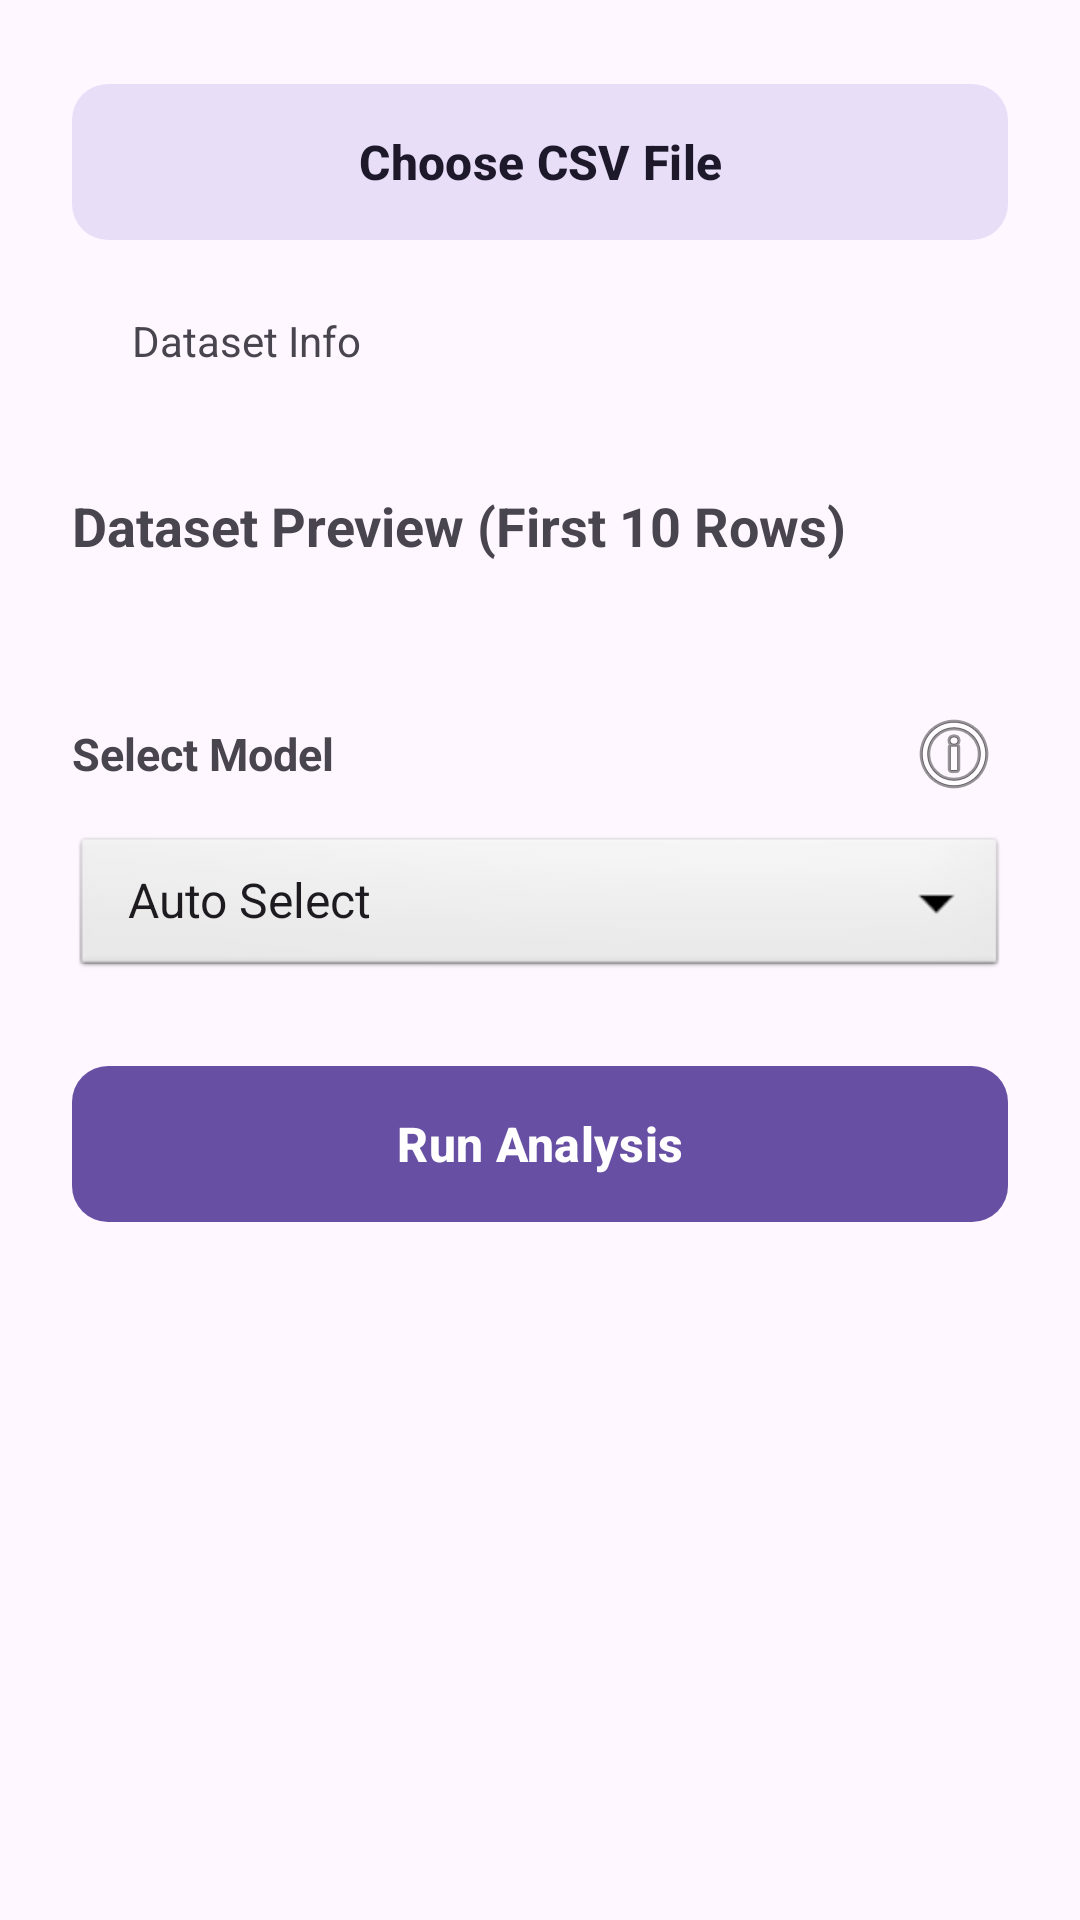

Screen size 1080*1920. Icon name, then its box in pixels as bbox=(x1, y1, x2, y2):
Model info: bbox=(919, 719, 989, 789)
